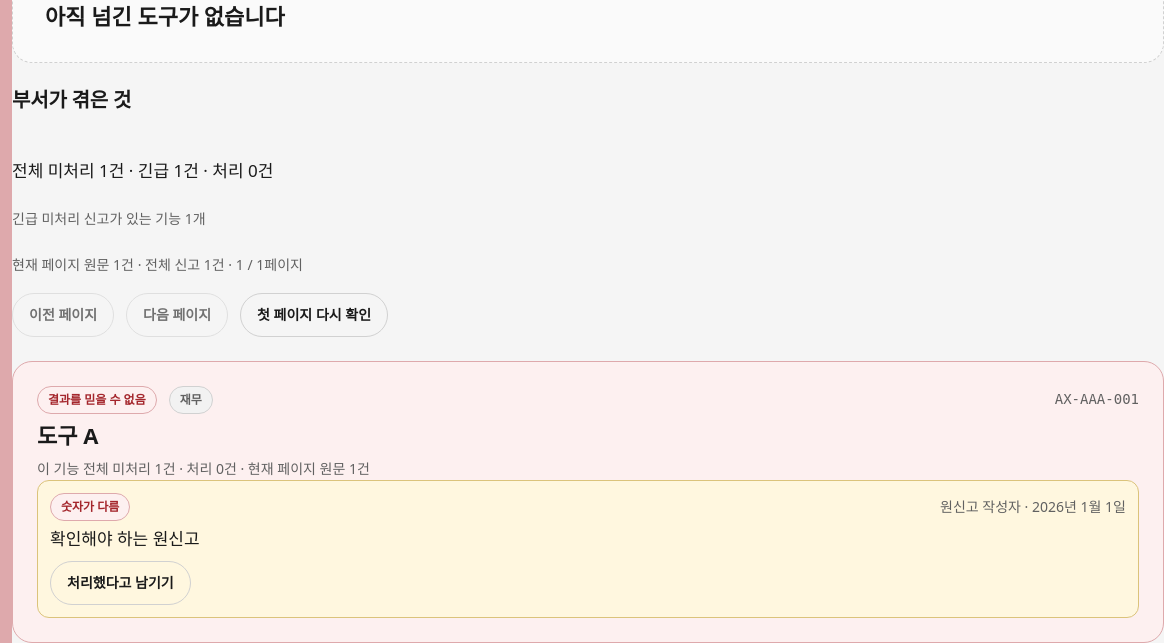
keeps the exact intent after network and 31 minutes instead of recalculating a key
(page scrolled)
Check: the text "확인해야 하는 원신고" is shown, box top-left (50, 527), bottom-right (200, 550)
Click the button "처리했다고 남기기".
click(120, 582)  # box top-left (50, 560), bottom-right (191, 604)
(page scrolled)
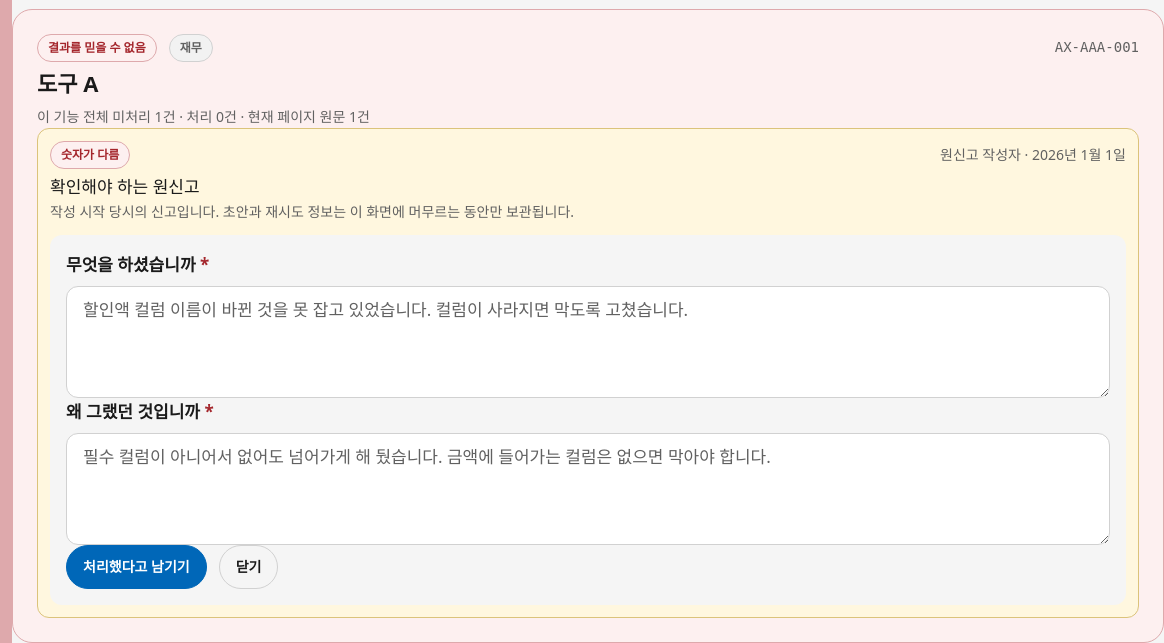
Type "컬럼 누락 검사를 고쳤습니다" into the text box labelled "무엇을 하셨습니까 *".
click(588, 342); type("컬럼 누락 검사를 고쳤습니다")  # box top-left (66, 286), bottom-right (1110, 398)
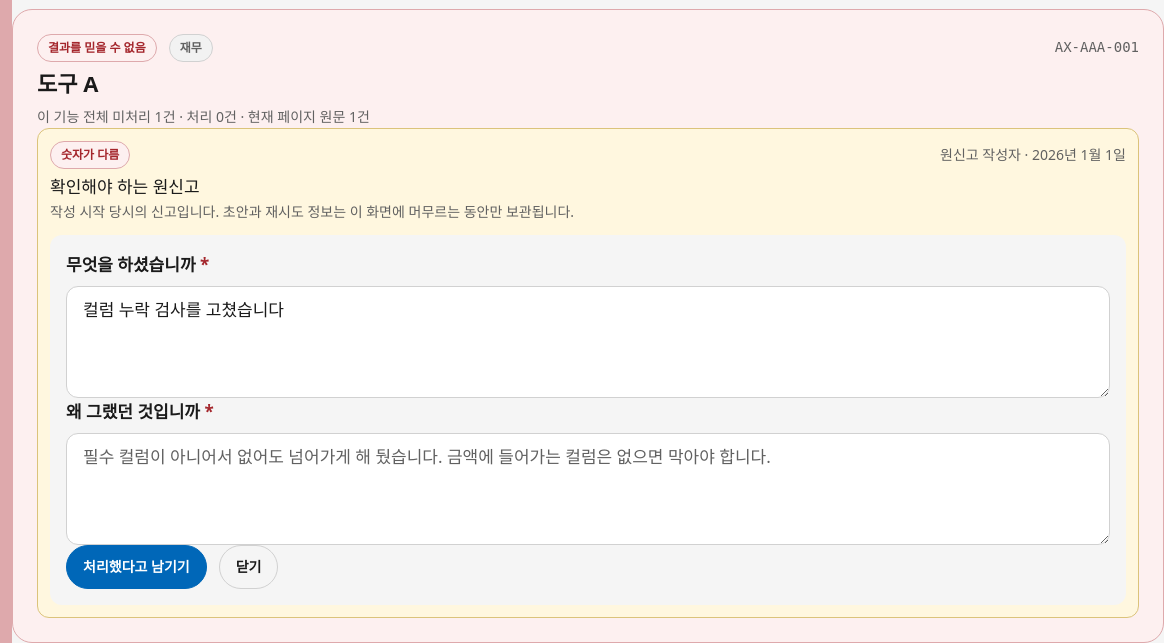
Type "필수 컬럼 검증이 빠져 있었습니다" into the text box labelled "왜 그랬던 것입니까 *".
click(588, 489); type("필수 컬럼 검증이 빠져 있었습니다")  # box top-left (66, 433), bottom-right (1110, 545)
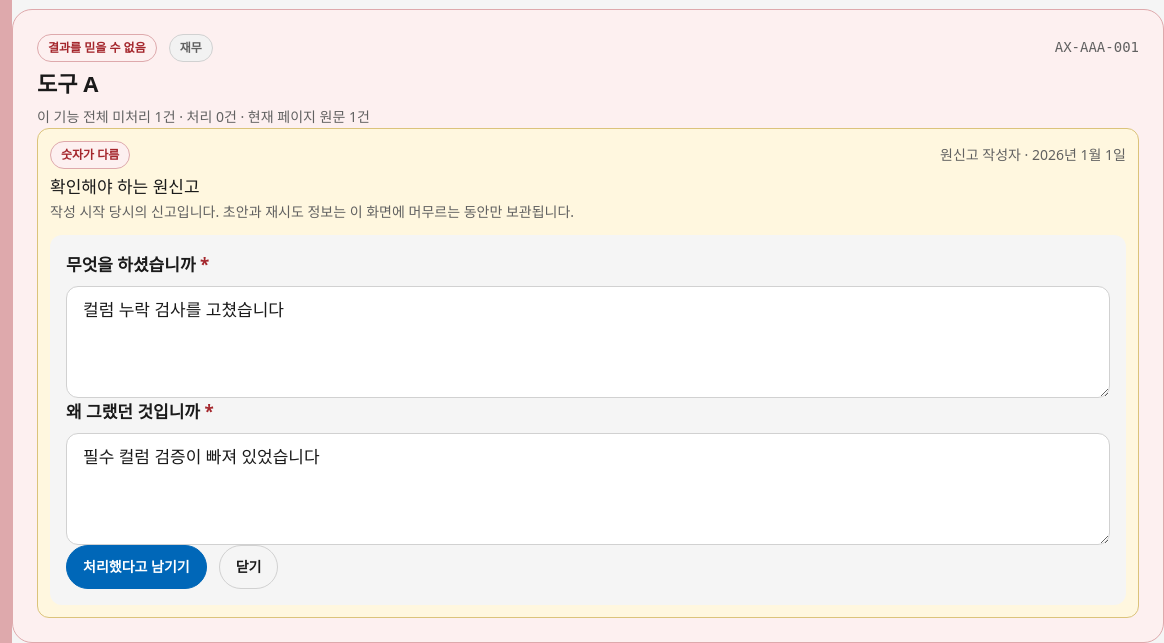
Submit the form labelled "무엇을 하셨습니까 * 왜 그랬던 것입니까 * 처리했다고 남기기 닫기", box top-left (50, 235), bottom-right (1126, 605)
(page scrolled)
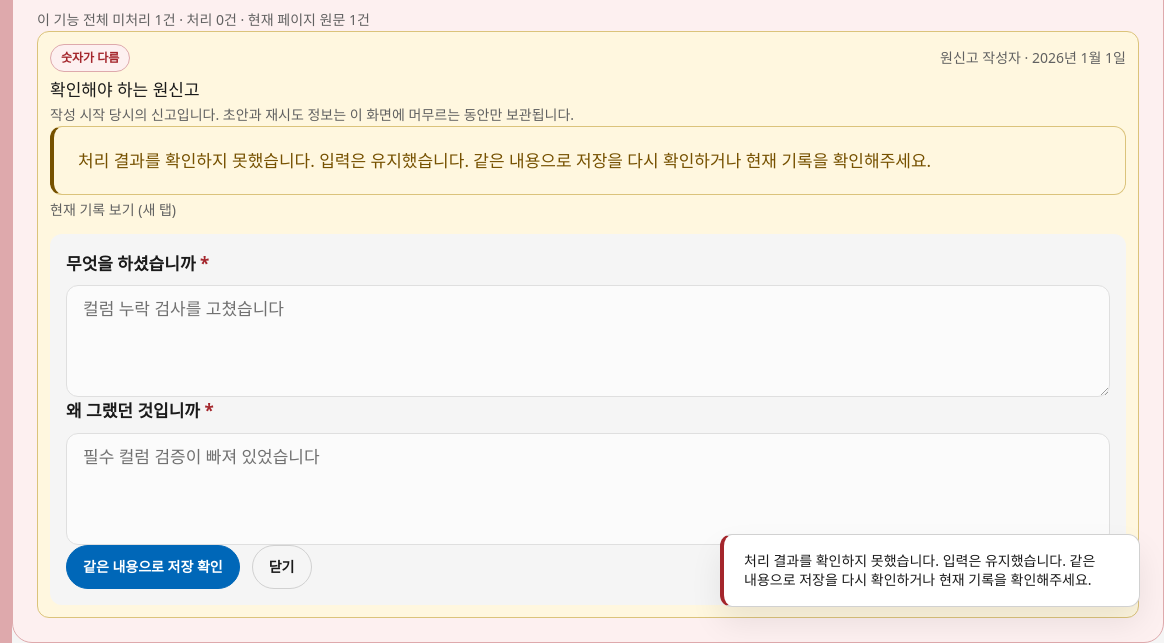
Check: the button with class "toast-error" is shown, box top-left (720, 534), bottom-right (1140, 607)
Submit the form labelled "무엇을 하셨습니까 * 왜 그랬던 것입니까 * 같은 내용으로 저장 확인 닫기", box top-left (50, 234), bottom-right (1126, 605)
(page scrolled)
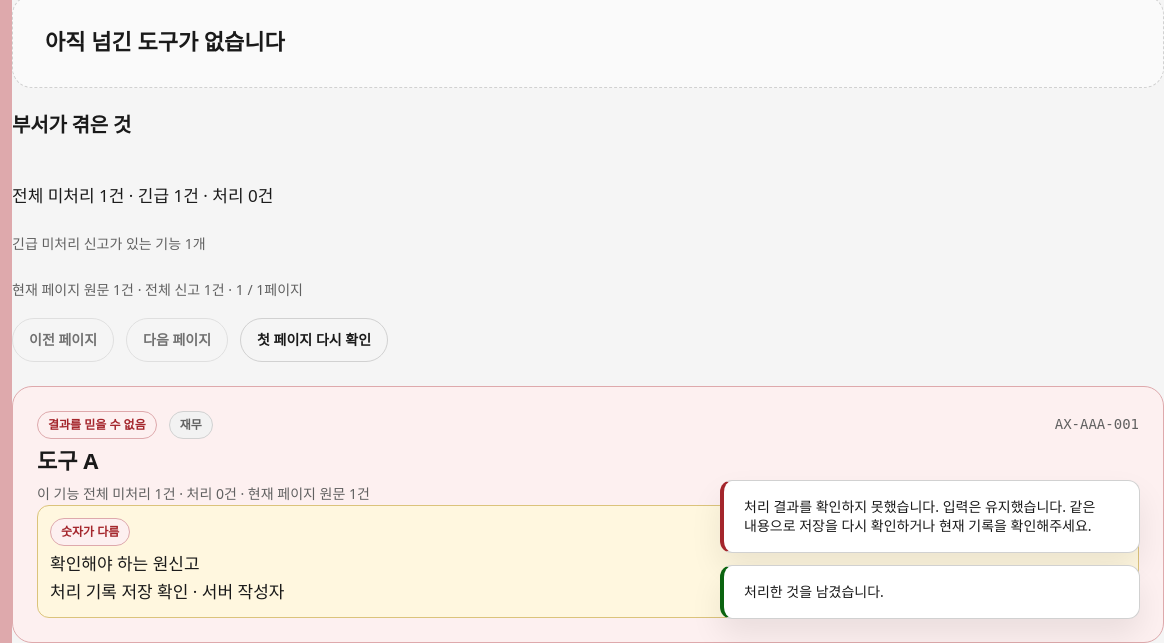
Check: the number of buttons with class "toast-success" is 1, box top-left (720, 565), bottom-right (1140, 619)
